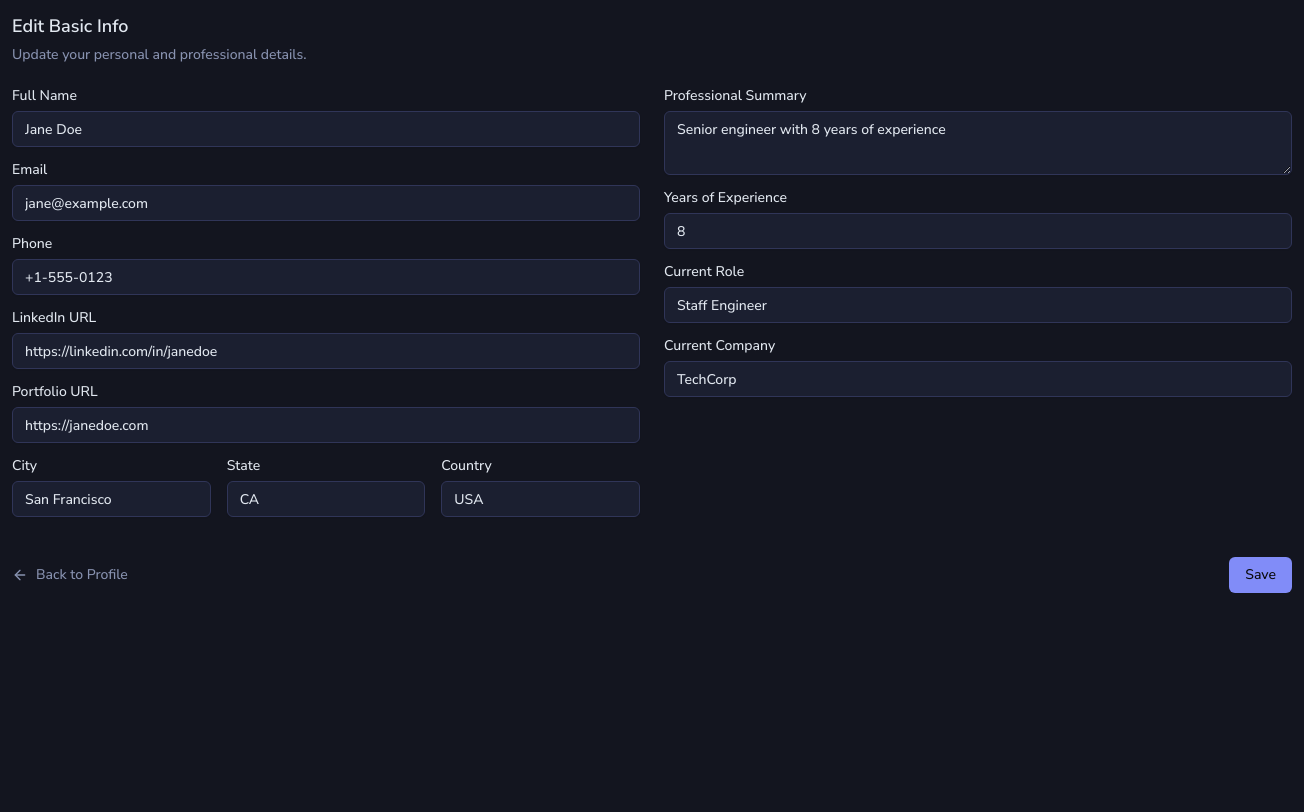
it: BasicInfoEditor › submission › shows friendly error for VALIDATION_ERROR
The width and height of the screenshot is (1304, 812).
Click the button "Save" at (1261, 575), box [1229,557,1292,593]
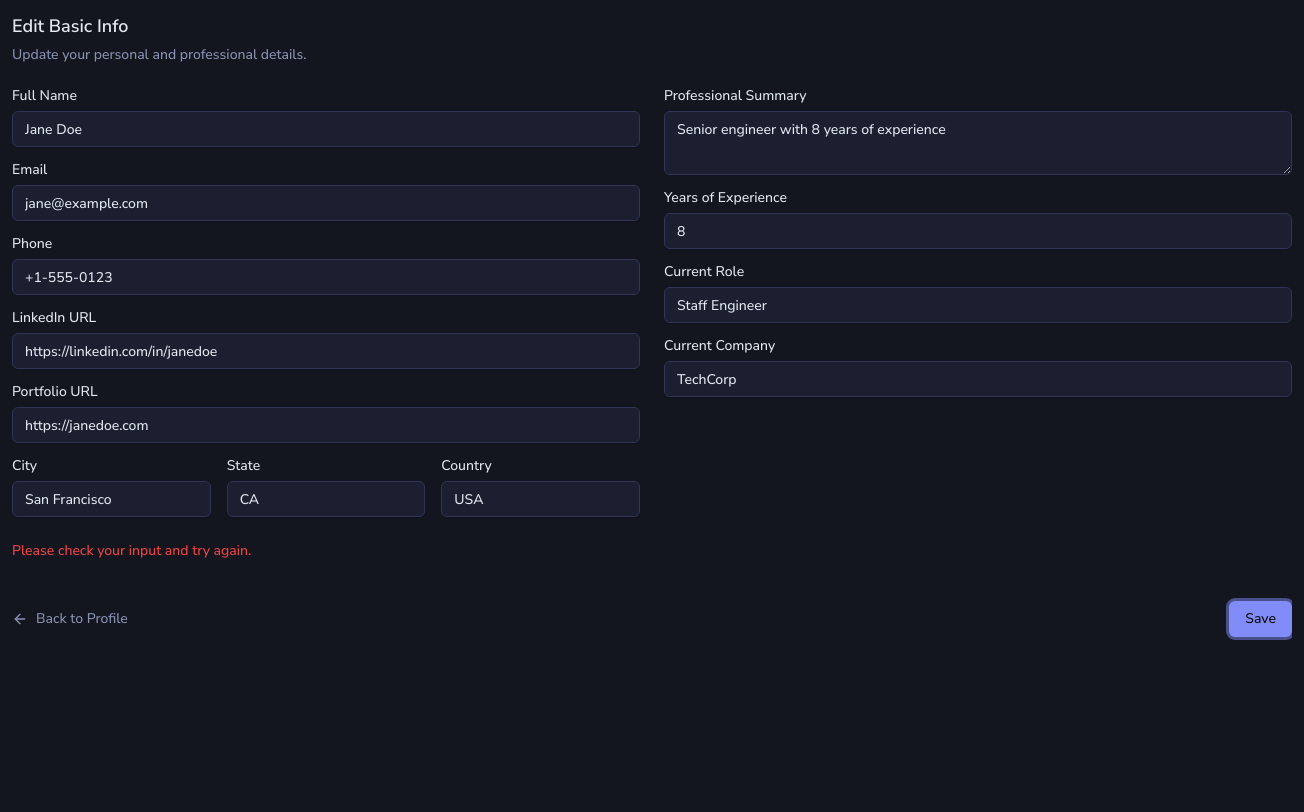
Result: the text "Please check your input and try again." is shown at [12,541,251,560]
